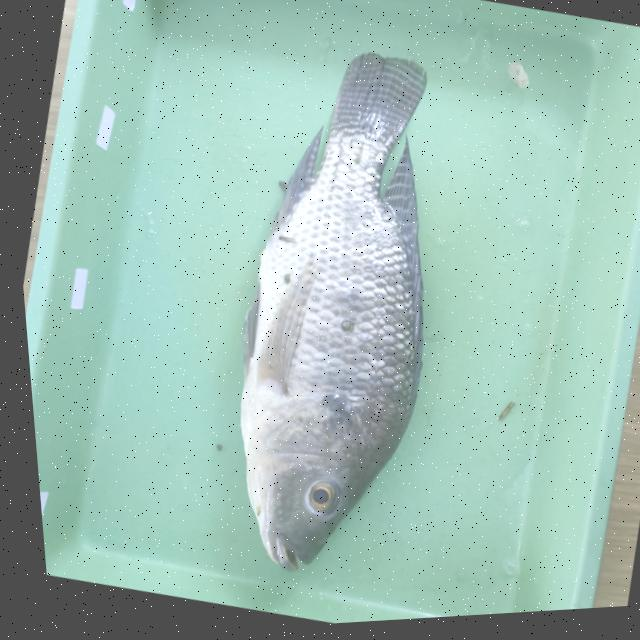Fresh: (185, 18, 517, 477), (260, 451, 357, 546)
